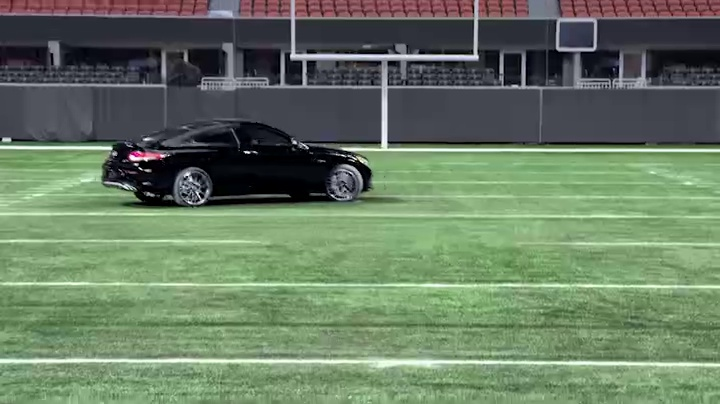amg: (99, 115, 373, 206)
